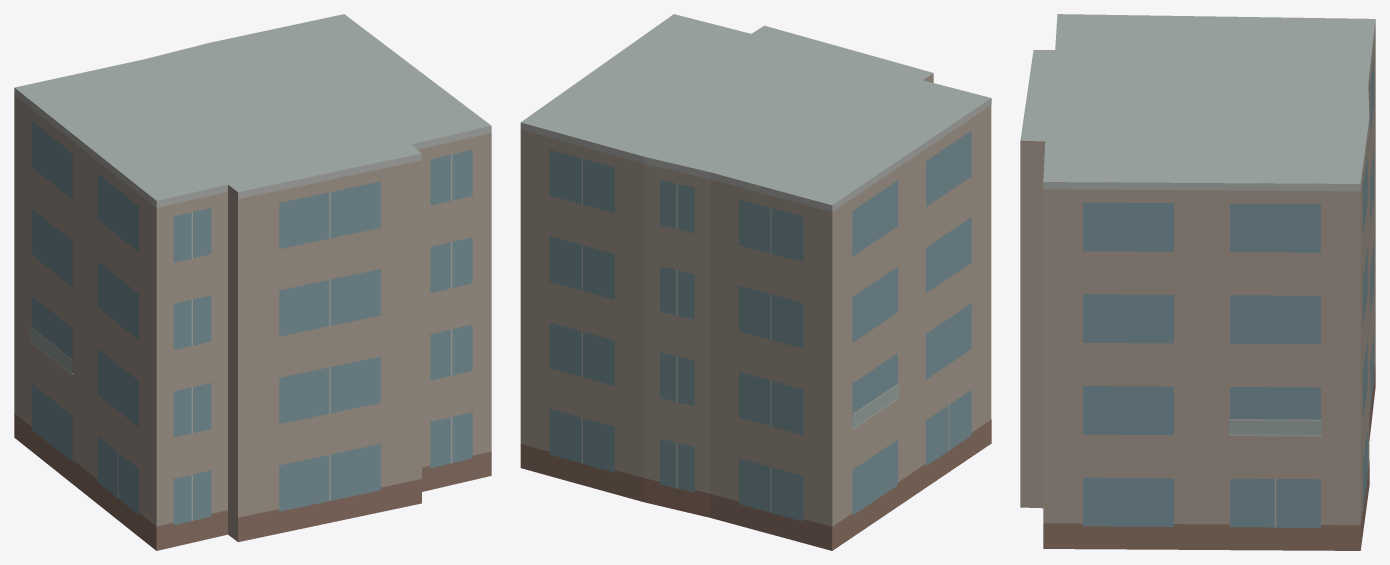
File: survey-upis-32509527.glb
The picture shows the model from 3 angles, left to right: view 1: azimuth 30°, elevation 25°; view 2: azimuth 150°, elevation 25°; view 3: azimuth 270°, elevation 25°; orthographic projection. The views are drawn at different scales.
Visible parts, largest first — view 1: survey-upis-32509527.tmp; view 2: survey-upis-32509527.tmp; view 3: survey-upis-32509527.tmp.
Boxes of the visible parts, x1,y1,x2,y2 form: survey-upis-32509527.tmp: (14, 14, 491, 550); survey-upis-32509527.tmp: (520, 14, 991, 550); survey-upis-32509527.tmp: (1020, 14, 1375, 550).
Bounding box in the file's own units: 12.15 × 12.2 × 10.72.
